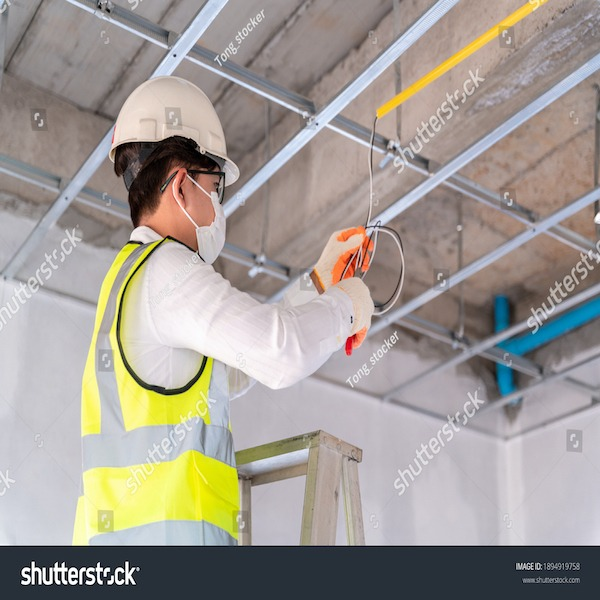helmet: (108, 77, 239, 167)
vest: (83, 238, 244, 540)
